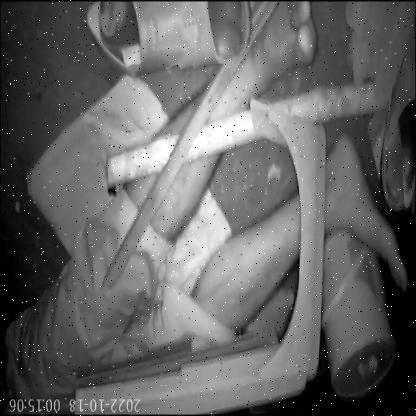leg: (190, 122, 416, 328), (210, 0, 337, 115)
